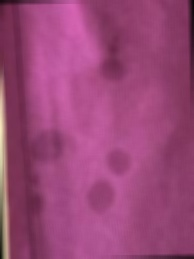oil: (29, 136, 69, 164), (101, 44, 131, 81), (87, 182, 118, 216), (31, 168, 52, 214), (108, 147, 126, 173)
